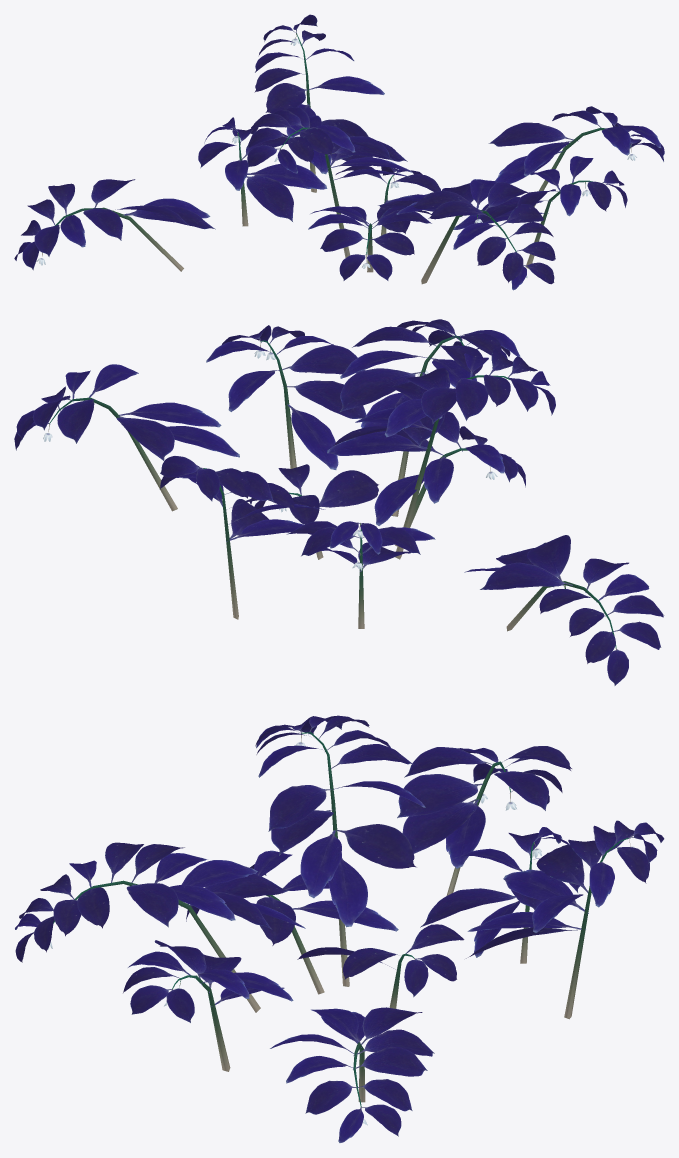
3 views of the same model, one above another, from view 1: azimuth 30°, elevation 25°; view 2: azimuth 150°, elevation 25°; view 3: azimuth 270°, elevation 25° (orthographic). The views are drawn at different scales.
Visible parts, largest first — view 1: SM_FH_SolomonsSeal_02_LOD0; view 2: SM_FH_SolomonsSeal_02_LOD0; view 3: SM_FH_SolomonsSeal_02_LOD0.
Part boxes in pixels (box(x1,y1,x2,y2)): SM_FH_SolomonsSeal_02_LOD0: box(14, 14, 664, 290); SM_FH_SolomonsSeal_02_LOD0: box(14, 319, 664, 685); SM_FH_SolomonsSeal_02_LOD0: box(15, 715, 664, 1142).
Bounding box in the file's own units: 2 × 0.5574 × 1.49.
1 material, 1 textured.
